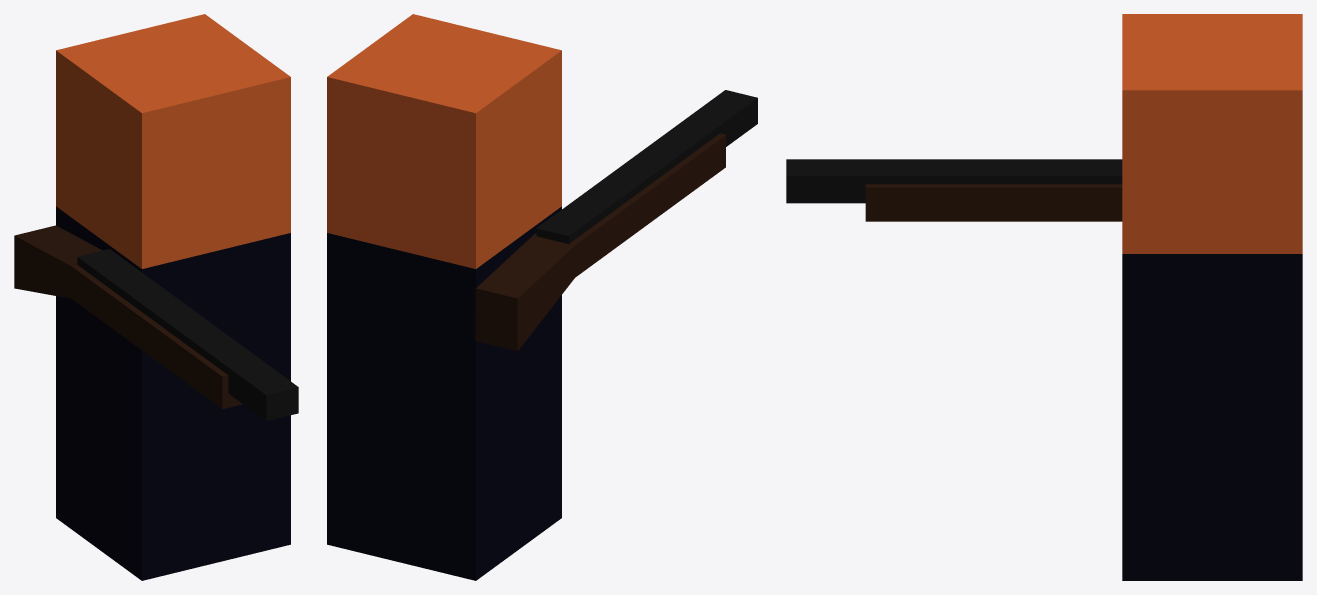
Rendered from unit-soldier-blue.obj.
3 views of the same model, side by side, from view 1: azimuth 30°, elevation 25°; view 2: azimuth 150°, elevation 25°; view 3: azimuth 270°, elevation 25° (orthographic). The views are drawn at different scales.
Parts seen in each view (by area): view 1: Cube, Cube.001, Cube.003, Cube.002; view 2: Cube, Cube.001, Cube.003, Cube.002; view 3: Cube, Cube.001, Cube.002, Cube.003.
Part boxes in pixels (<box>): Cube: <box>56,206,290,580</box>; Cube.001: <box>56,14,290,268</box>; Cube.003: <box>14,225,242,409</box>; Cube.002: <box>77,249,298,421</box>; Cube: <box>327,206,561,580</box>; Cube.001: <box>327,14,561,268</box>; Cube.003: <box>473,133,725,351</box>; Cube.002: <box>536,90,757,243</box>; Cube: <box>1122,254,1302,580</box>; Cube.001: <box>1122,14,1302,253</box>; Cube.002: <box>786,159,1122,203</box>; Cube.003: <box>865,184,1122,221</box>.
Size of the model in its own units: 2.56 by 6 by 5.72.
